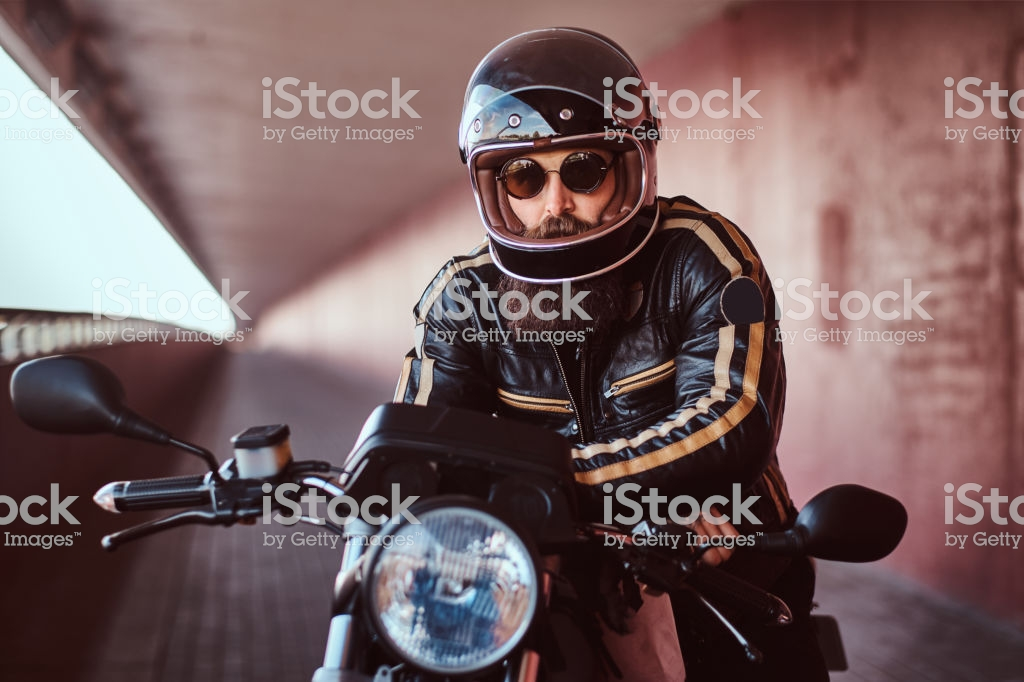helmet: (451, 31, 675, 289)
